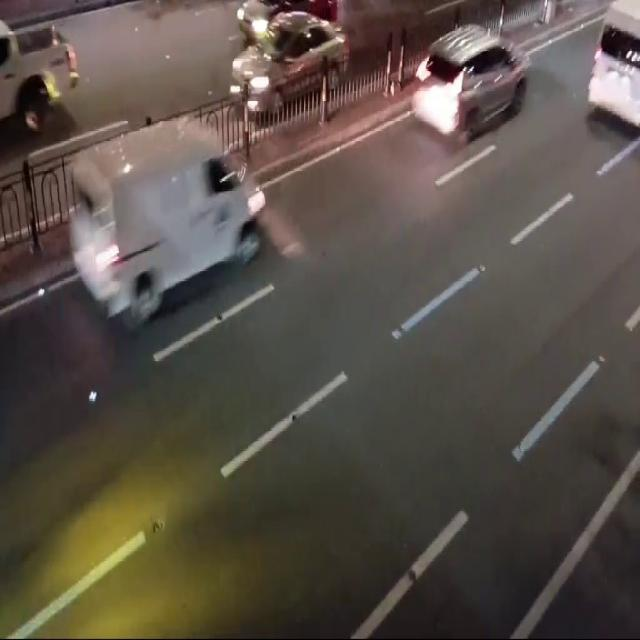car: (63, 132, 278, 297), (416, 24, 533, 147), (233, 21, 356, 113)
